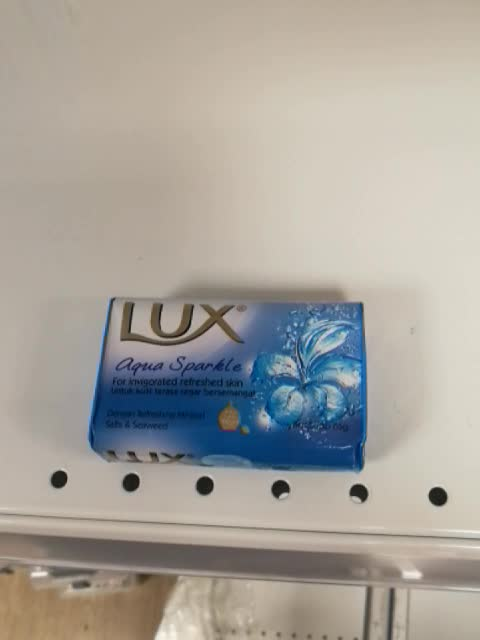soap: (86, 293, 371, 479)
